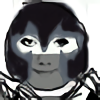dragon: (18, 35, 70, 75)
